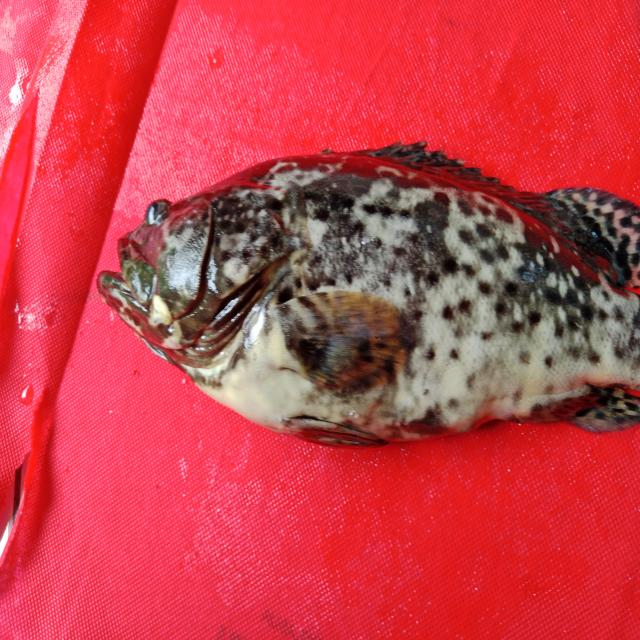ikan: (92, 120, 630, 464)
